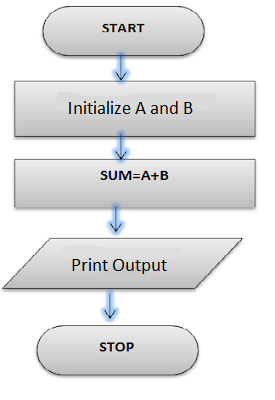arrow: (104, 289, 117, 326), (113, 56, 128, 82), (113, 135, 128, 160), (109, 209, 122, 236)
data: (3, 235, 245, 292)
process: (12, 79, 258, 138), (13, 157, 257, 210)
terminator: (35, 323, 200, 377), (41, 4, 205, 58)
text: (65, 100, 194, 117), (71, 257, 167, 274), (98, 169, 171, 183), (99, 22, 145, 35), (96, 340, 134, 355)
